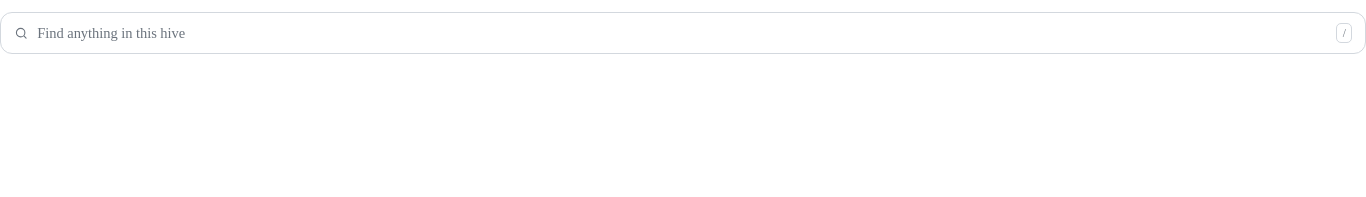
Test: HiveOmni (find only) › says nothing matches above the Ask row
In the dropdown: (682, 33) [37,13,1327,53], type "zzzz"
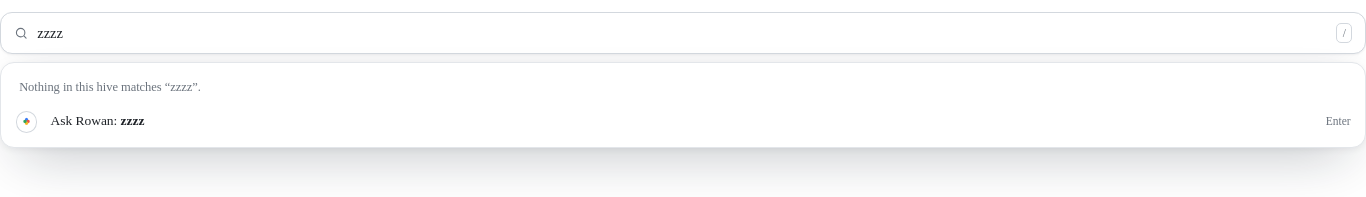
Expected: the text with test id "omni-no-matches" reads "Nothing in this hive matches “zzzz”.", [19,80,201,94]
Expected: the number of options is 1, [8,104,1358,140]
